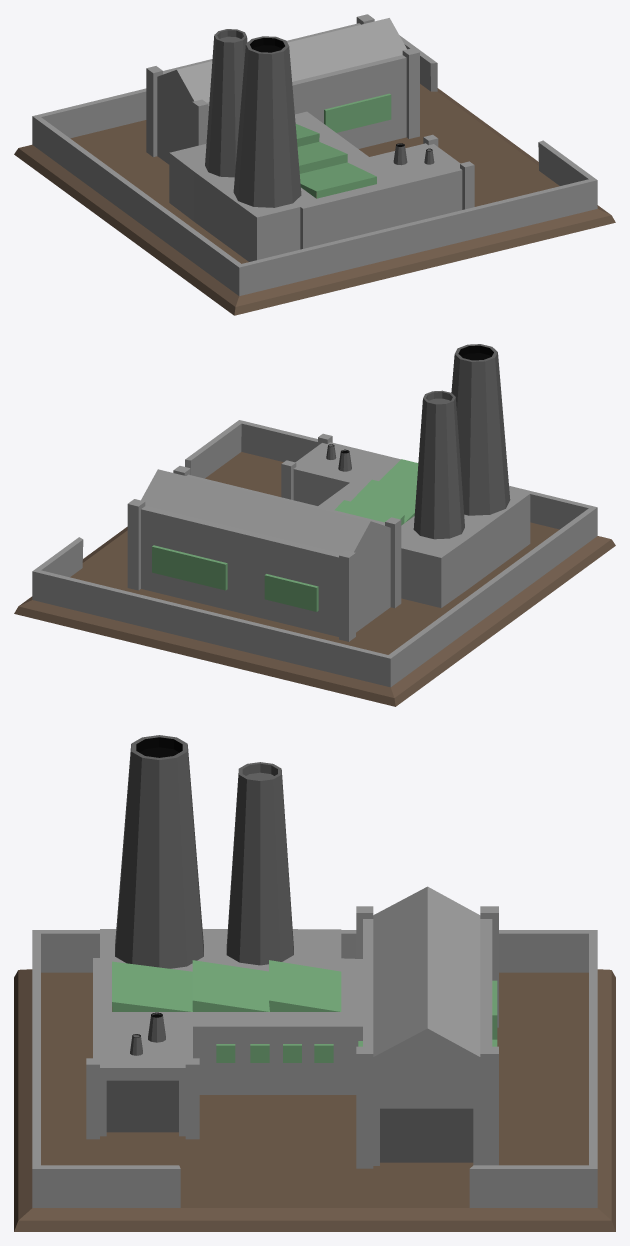
Rendered from industrial_factory_model.fbx.
The picture shows the model from 3 angles, top to bottom: view 1: azimuth 30°, elevation 25°; view 2: azimuth 150°, elevation 25°; view 3: azimuth 270°, elevation 25°; orthographic projection. The views are drawn at different scales.
Parts seen in each view (by area): view 1: industrial_factory1; view 2: industrial_factory1; view 3: industrial_factory1.
Part boxes in pixels (x1=…): industrial_factory1: x1=14, y1=14, x2=615, y2=315; industrial_factory1: x1=14, y1=344, x2=615, y2=706; industrial_factory1: x1=14, y1=735, x2=615, y2=1231.
Size of the model in its own units: 8.96 by 4.72 by 8.96.
